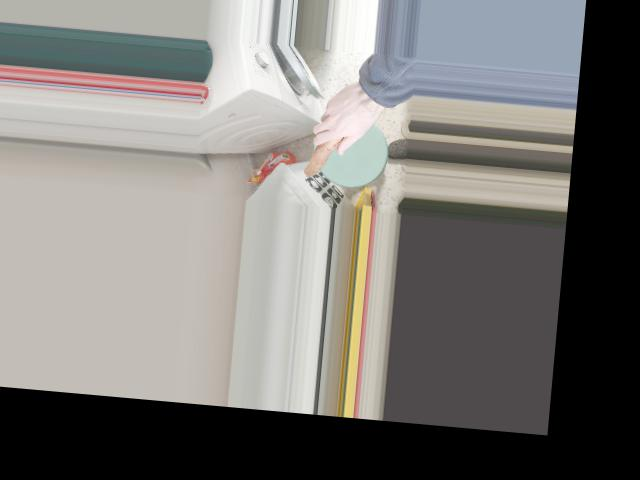sweet_potato: (303, 101, 364, 178)
